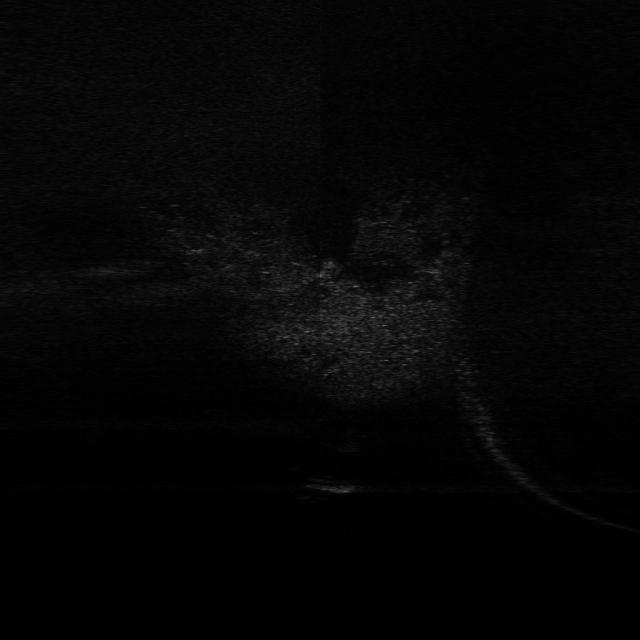cube: (301, 474, 368, 497)
